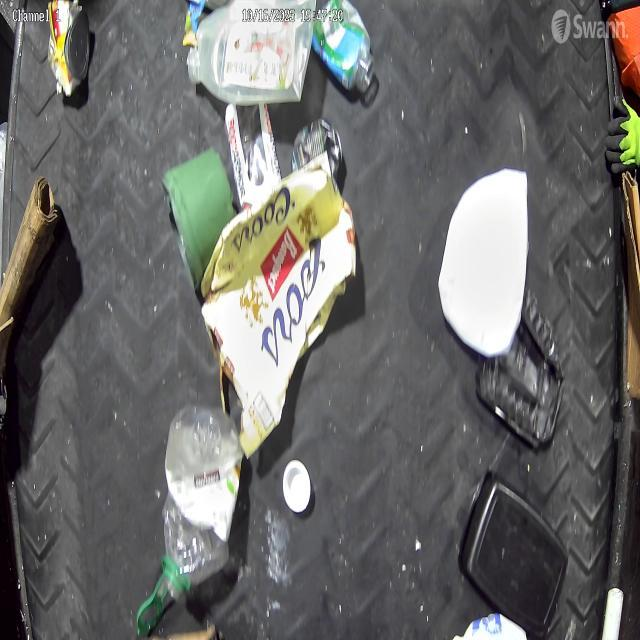can: (46, 0, 93, 95), (292, 116, 344, 184)
non_white_jug: (186, 0, 316, 106)
